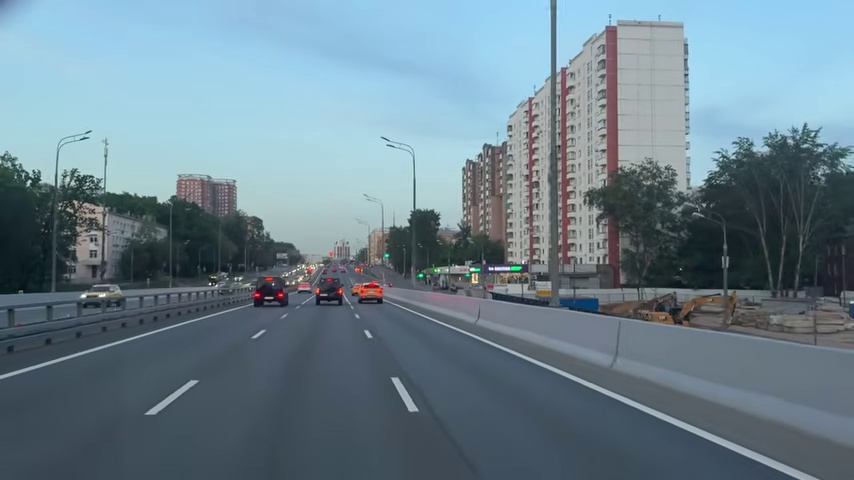apagada: (378, 133, 397, 150), (77, 127, 94, 144)
